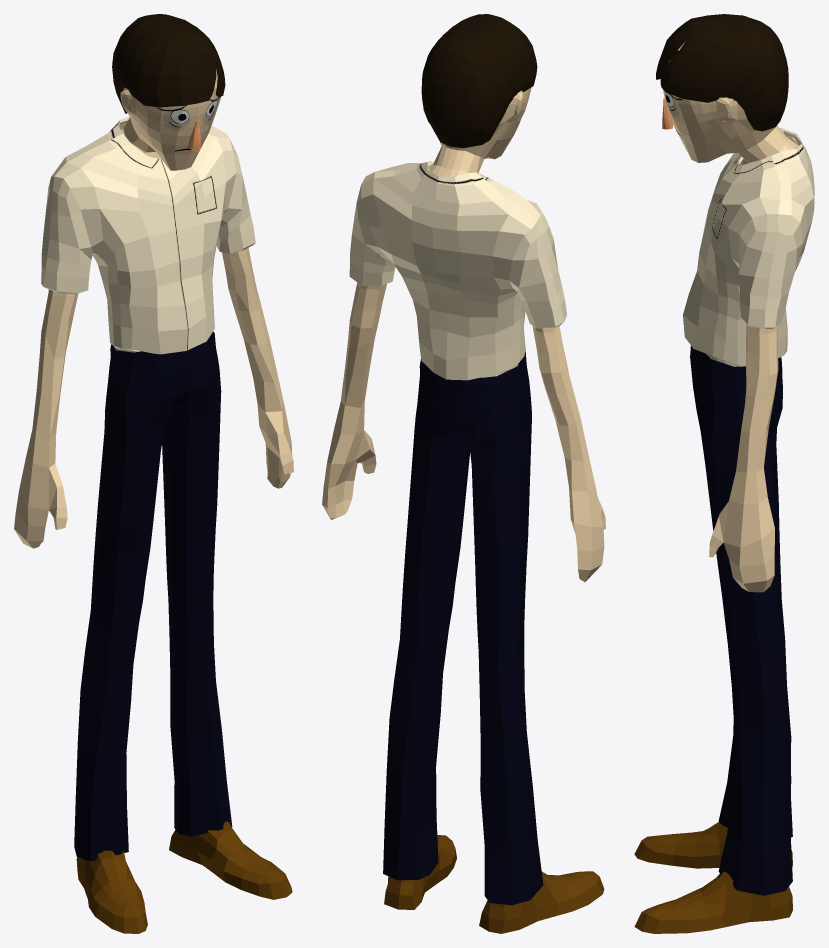
File: animate kedip biasa.FBX
3 renders of one model, left to right at view 1: azimuth 30°, elevation 25°; view 2: azimuth 150°, elevation 25°; view 3: azimuth 270°, elevation 25°, orthographic.
Parts seen in each view (by area): view 1: celana, baju, body, sepatu, rambut; view 2: celana, baju, body, rambut, sepatu; view 3: celana, baju, body, rambut, sepatu.
Part boxes in pixels (bbox=[...]): celana: bbox=[74, 331, 232, 861]; baju: bbox=[41, 116, 255, 354]; body: bbox=[14, 69, 293, 548]; sepatu: bbox=[76, 821, 292, 933]; rambut: bbox=[112, 14, 225, 113]; celana: bbox=[383, 350, 543, 905]; baju: bbox=[349, 161, 567, 380]; body: bbox=[322, 87, 605, 581]; rambut: bbox=[421, 14, 537, 148]; sepatu: bbox=[384, 835, 604, 933]; celana: bbox=[690, 346, 792, 895]; baju: bbox=[683, 128, 814, 366]; body: bbox=[663, 41, 798, 592]; rambut: bbox=[656, 14, 788, 131]; sepatu: bbox=[634, 822, 792, 933].
Size of the model in its own units: 4.77 by 2.78 by 14.81.
